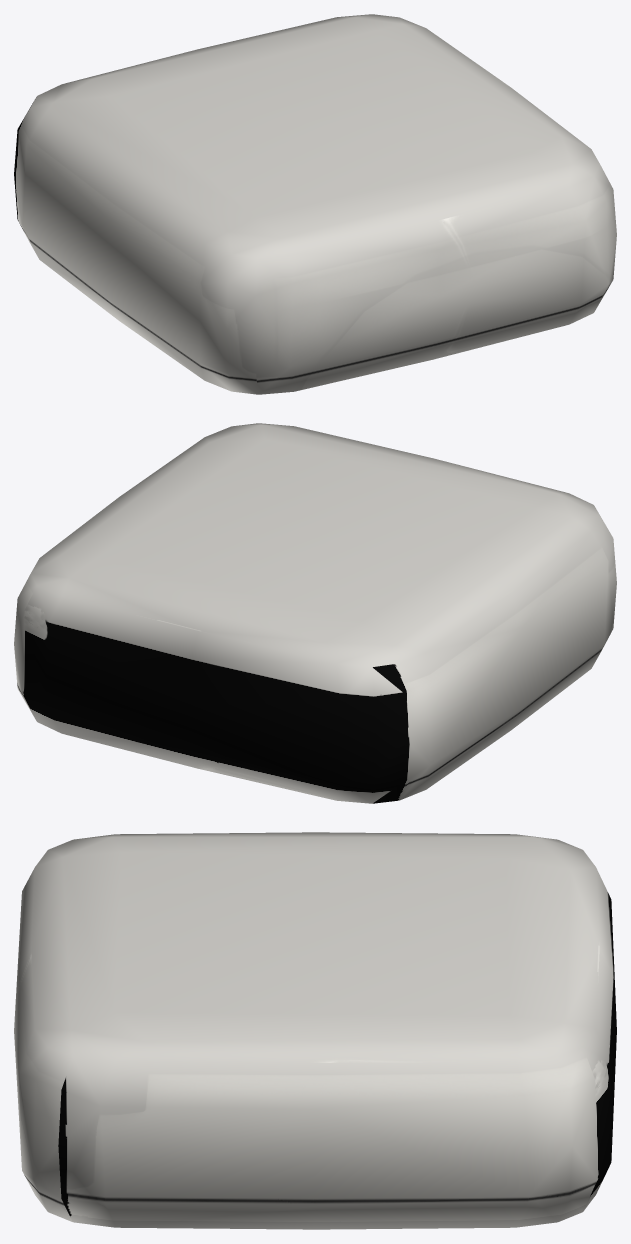
Rendered from Centinela_GuanteIzq.fbx.
The picture shows the model from 3 angles, top to bottom: view 1: azimuth 30°, elevation 25°; view 2: azimuth 150°, elevation 25°; view 3: azimuth 270°, elevation 25°; orthographic projection. The views are drawn at different scales.
Parts seen in each view (by area): view 1: Centinela_GuanteIzq; view 2: Centinela_GuanteIzq; view 3: Centinela_GuanteIzq.
Boxes of the visible parts, x1,y1,x2,y2 form: Centinela_GuanteIzq: (14,14,616,394); Centinela_GuanteIzq: (14,423,616,803); Centinela_GuanteIzq: (14,832,616,1229).
Bounding box in the file's own units: 1.07 × 0.4001 × 1.11.
